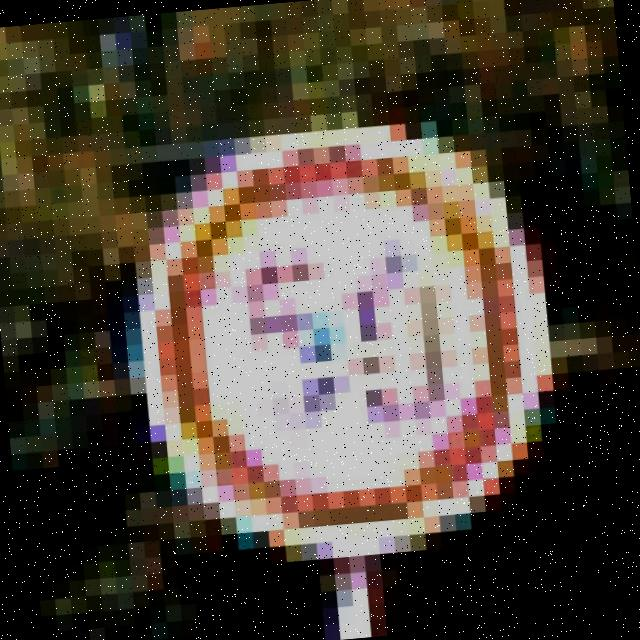Ograniczenie predkosci do 50: (123, 119, 542, 552)
